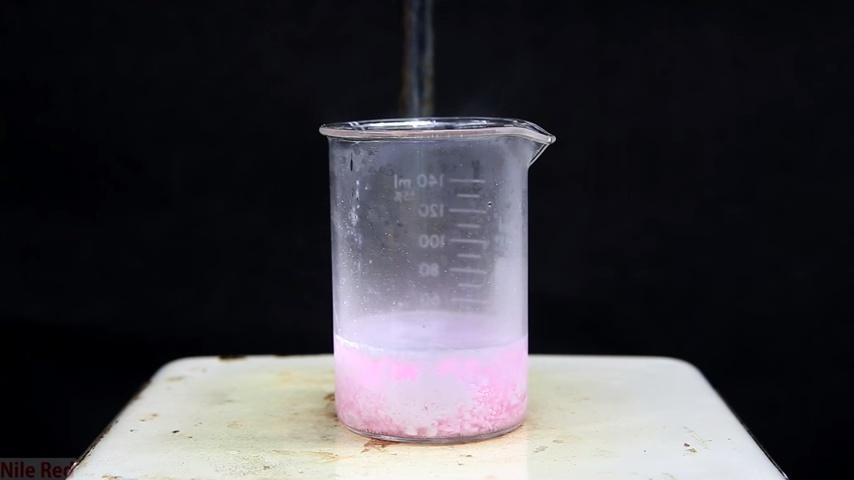Beaker: (311, 115, 565, 447)
